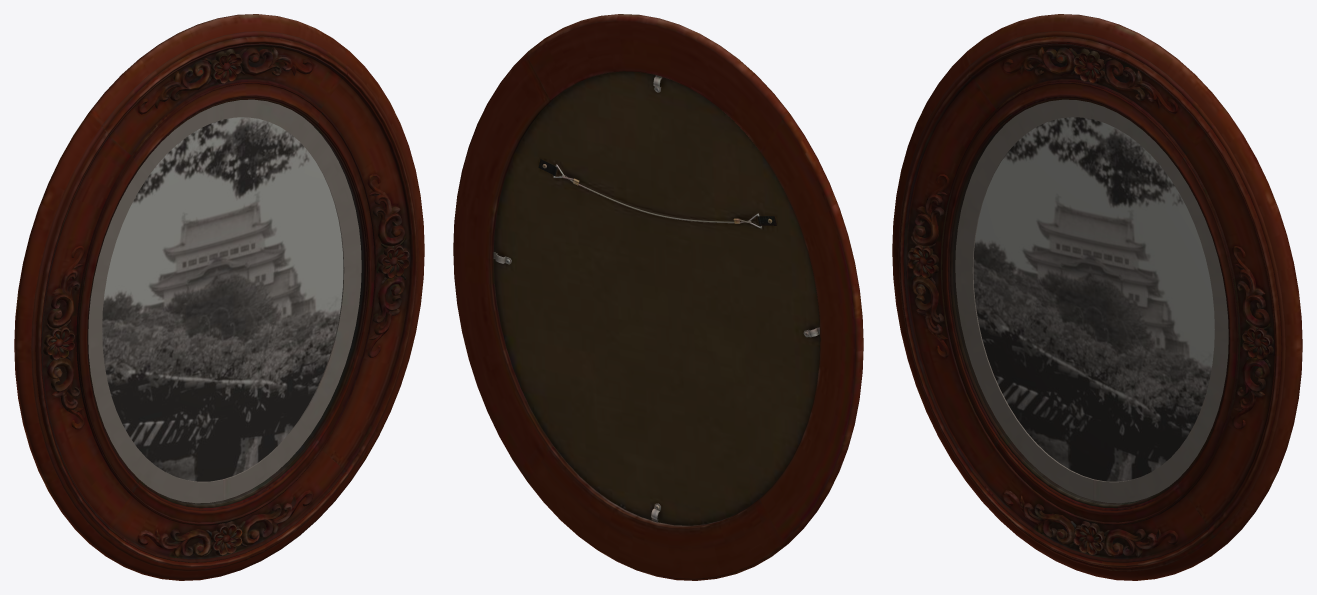
3 renders of one model, left to right at view 1: azimuth 30°, elevation 25°; view 2: azimuth 150°, elevation 25°; view 3: azimuth 330°, elevation 25°, orthographic.
Visible parts, largest first — view 1: hanging_picture_frame_03, hanging_picture_frame_03_glass; view 2: hanging_picture_frame_03; view 3: hanging_picture_frame_03, hanging_picture_frame_03_glass.
Boxes of the visible parts, bbox=[...] form: hanging_picture_frame_03: bbox=[14, 14, 424, 580]; hanging_picture_frame_03_glass: bbox=[88, 100, 363, 504]; hanging_picture_frame_03: bbox=[453, 14, 863, 580]; hanging_picture_frame_03: bbox=[892, 14, 1302, 580]; hanging_picture_frame_03_glass: bbox=[953, 100, 1228, 504].
Size of the model in its own units: 0.385 by 0.5024 by 0.0318.
3 materials, 2 textured.
